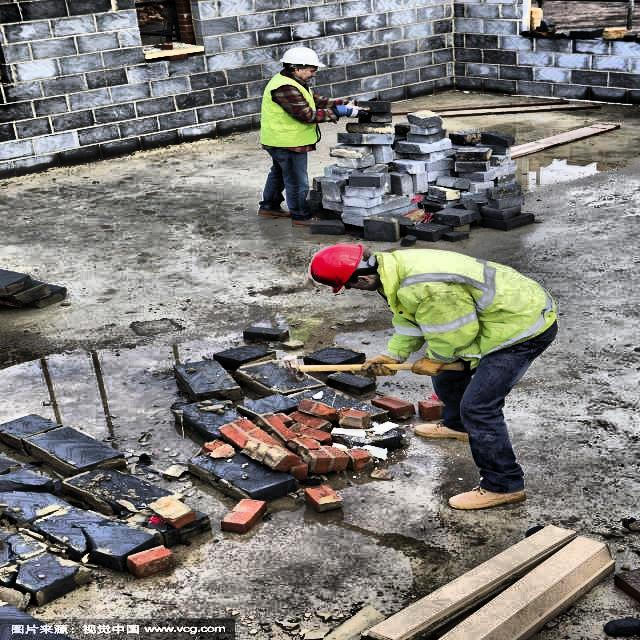person: (302, 235, 564, 516), (240, 40, 342, 236)
